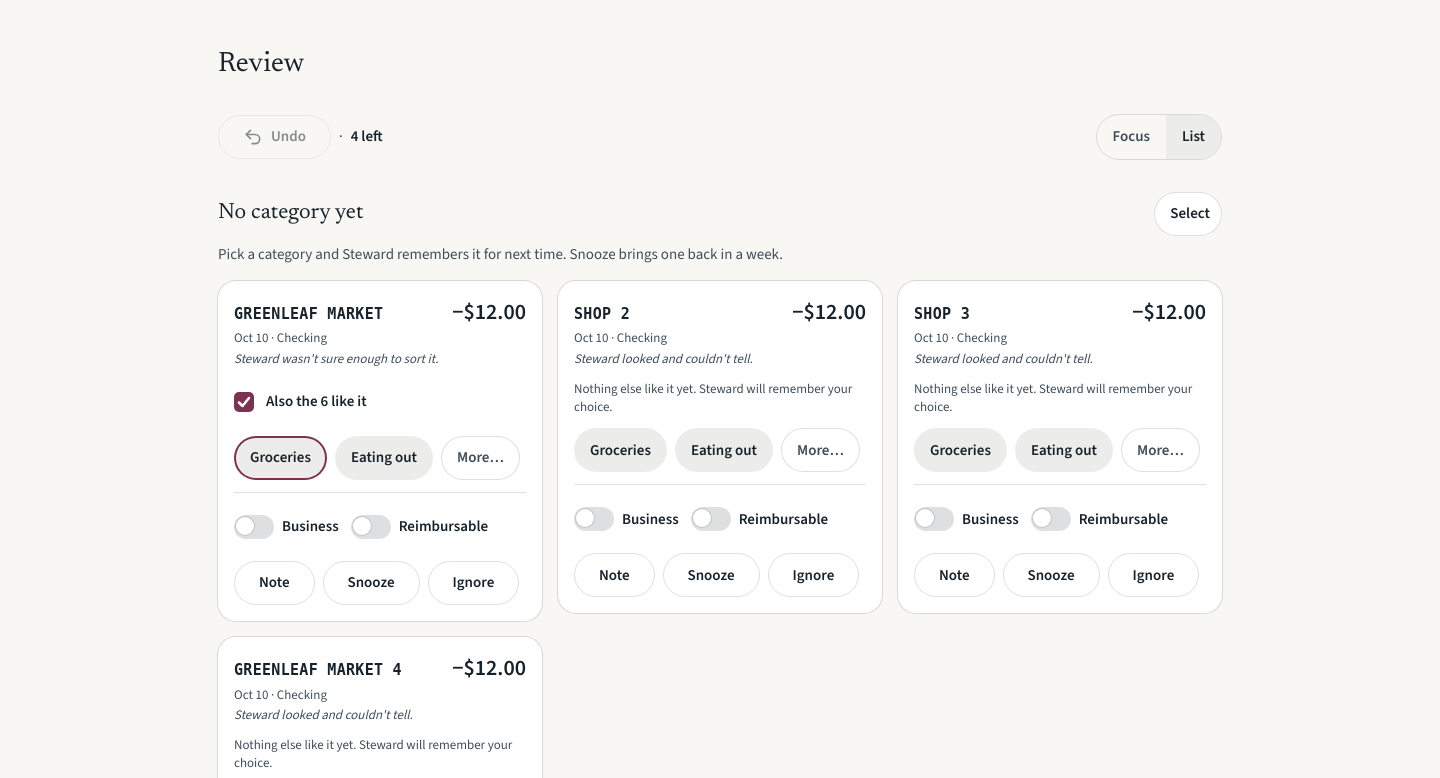
it: the list (review focus P20, P21): a card acted on becomes a slim row in its place › the slim row's Undo grows the card back, as it was, with Undone., and its matches come back
This screenshot has width=1440, height=778.
Click the button "Groceries" below "Also the 6 like it" at point(280, 458), box [234,436,327,480]
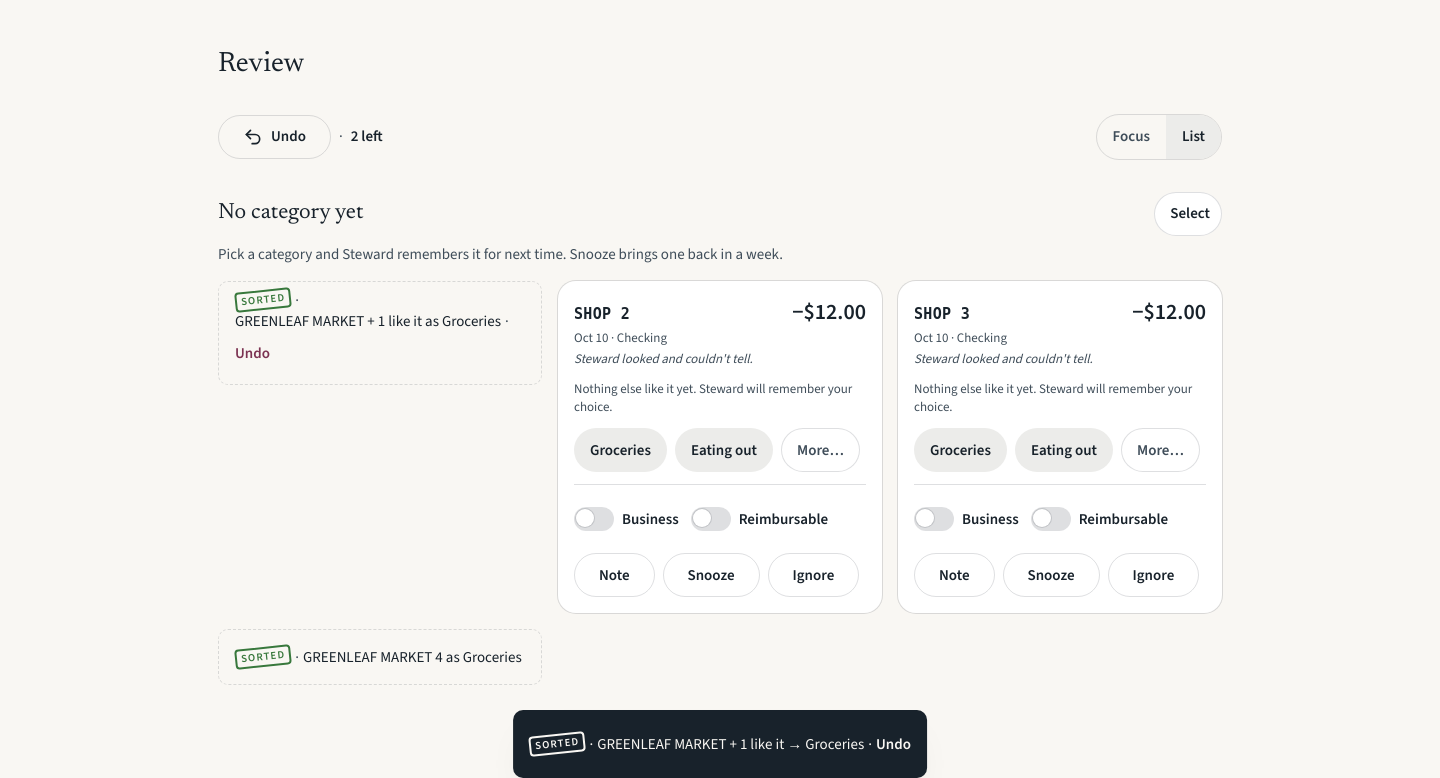
Click the button "Undo" below "No category yet" at point(252, 354), box [235,332,270,376]
(page scrolled)
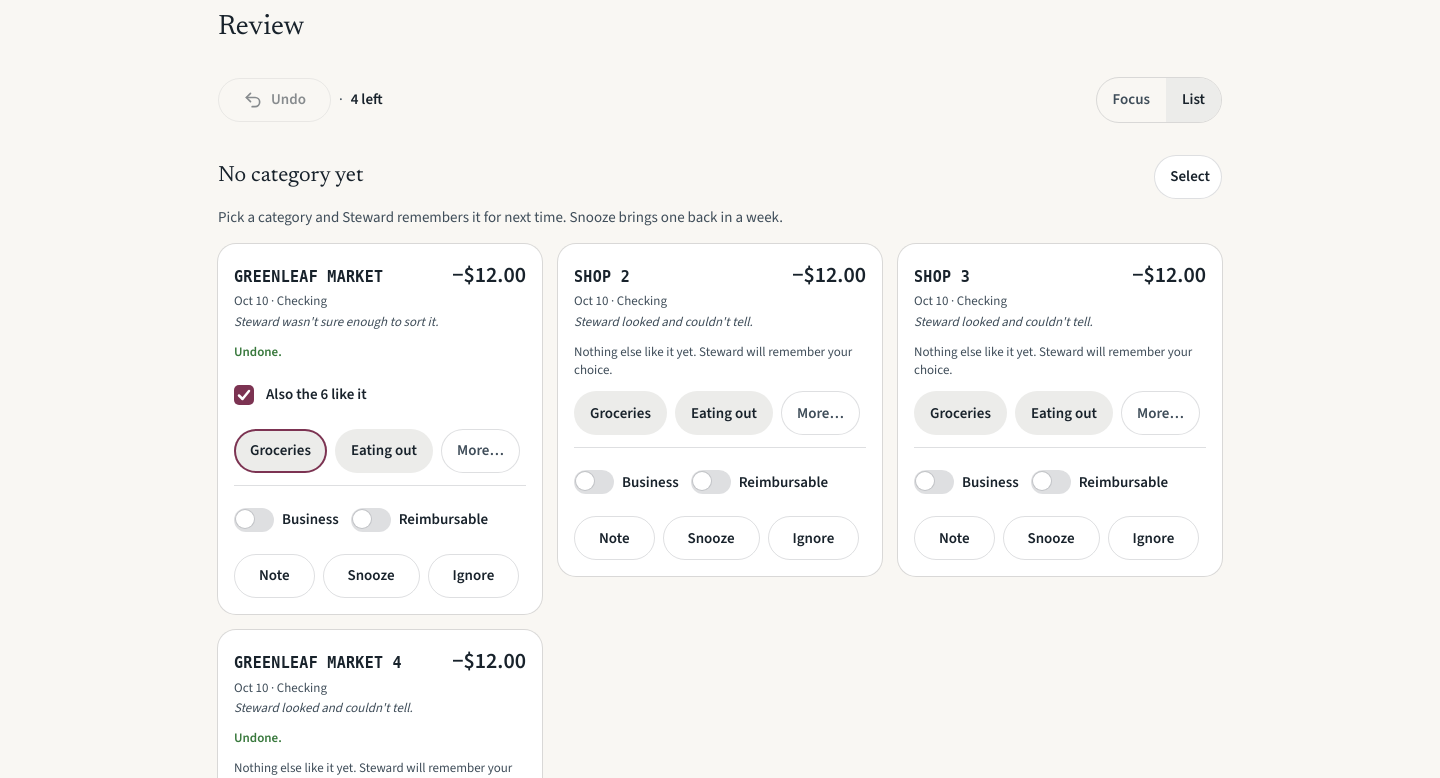
Expected: the text "Undone." below "Steward wasn't sure enough to sort it." is shown, [234,343,282,360]
Expected: the checkbox labelled "Also the 6 like it" is checked, [234,385,254,405]
Expected: the message with class "undo-toast" is gone
